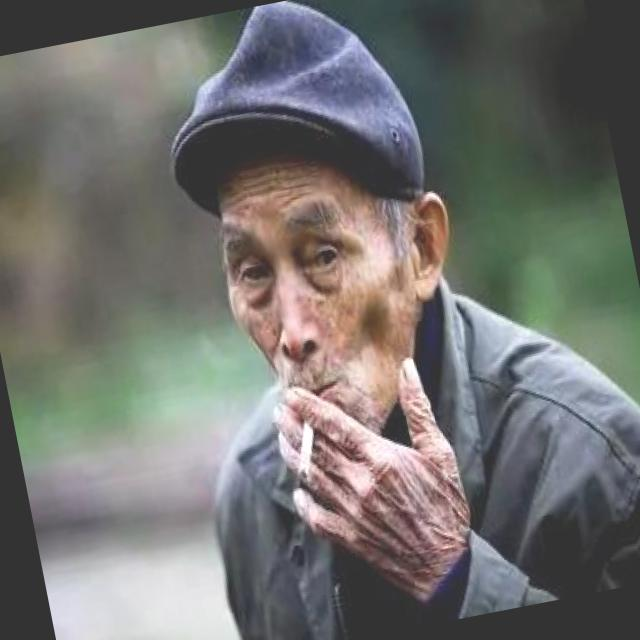smoke: (244, 345, 361, 516)
